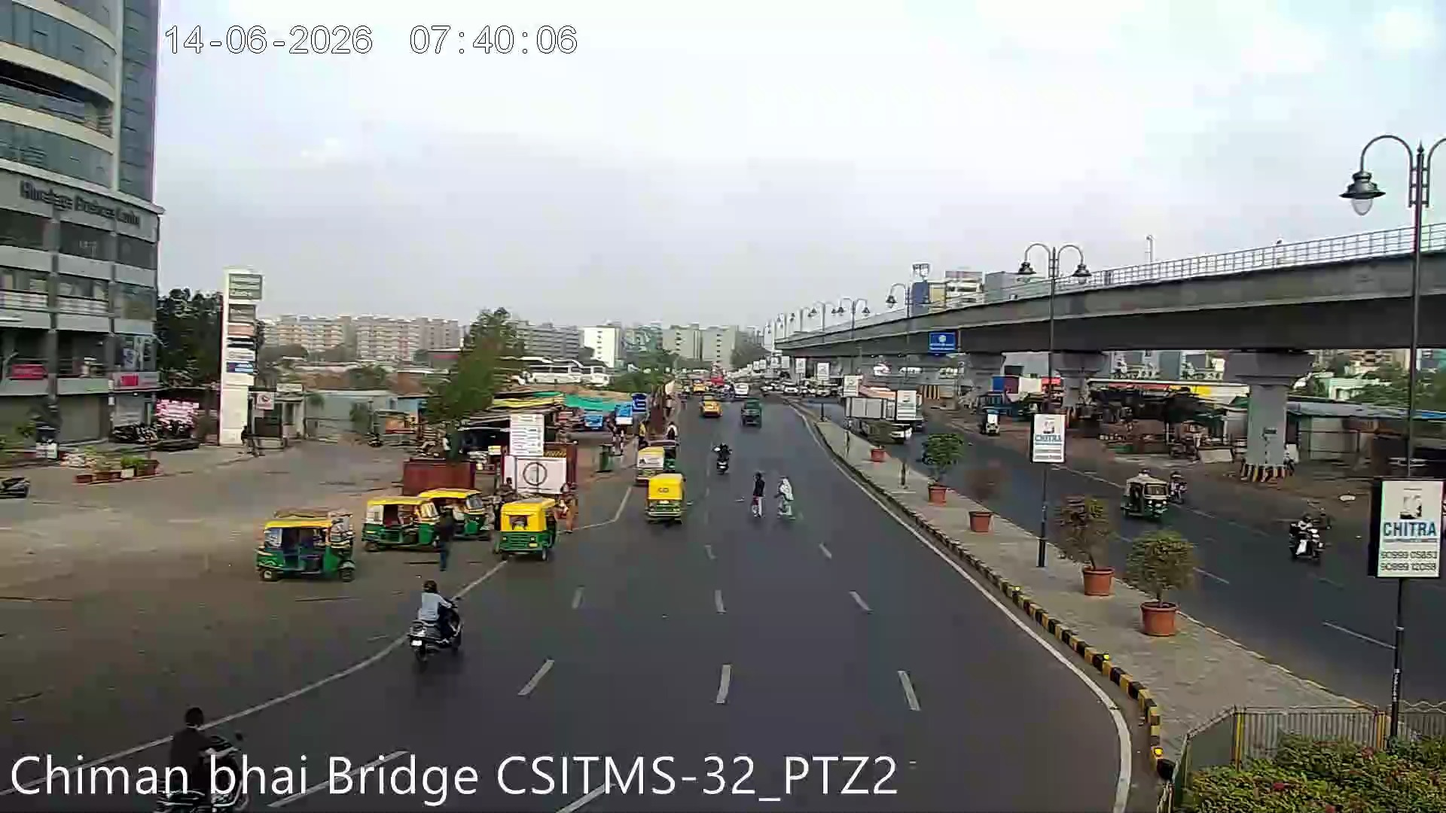auto_rickshaw: (254, 504, 357, 583), (361, 491, 439, 551), (416, 484, 491, 540), (496, 497, 559, 559), (1121, 471, 1181, 518), (644, 470, 687, 524), (740, 399, 765, 430), (698, 393, 724, 418)
car: (0, 465, 33, 500)
pedestrian: (774, 469, 801, 523), (747, 468, 768, 522)
two_wheeler: (151, 698, 252, 795), (404, 575, 468, 662), (1285, 511, 1328, 564), (774, 469, 801, 524), (712, 436, 733, 477)
